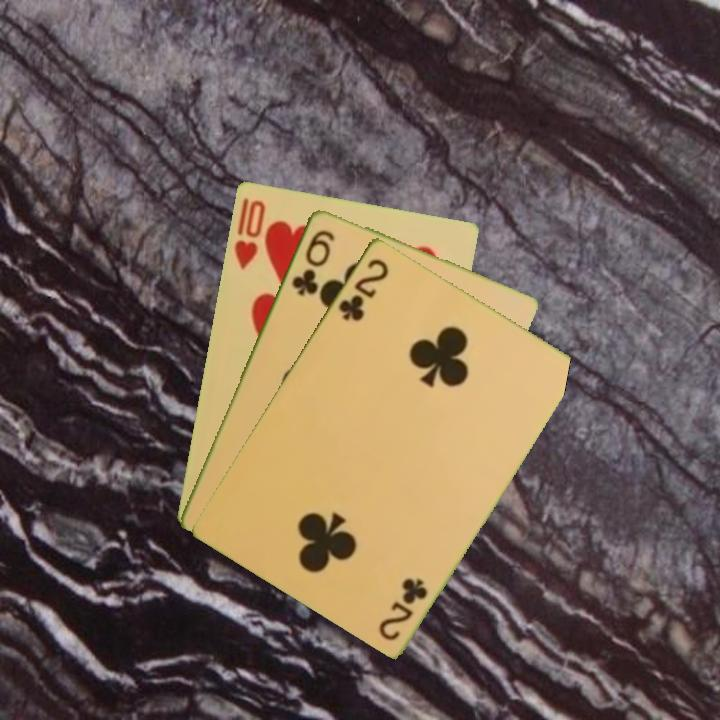10h: (230, 196, 268, 272)
2c: (334, 254, 392, 324), (375, 574, 431, 644)
6c: (288, 225, 338, 299)
